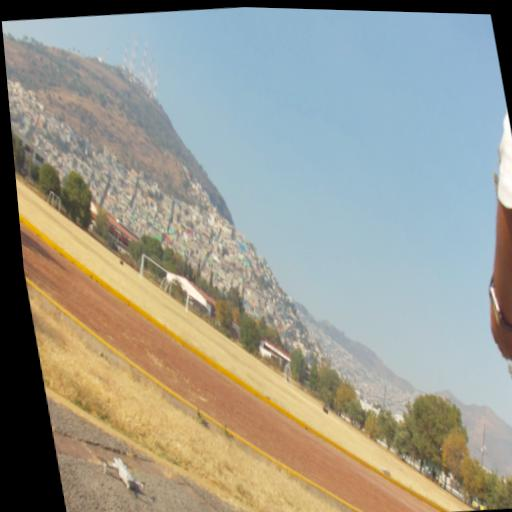drones: (94, 445, 155, 501)
